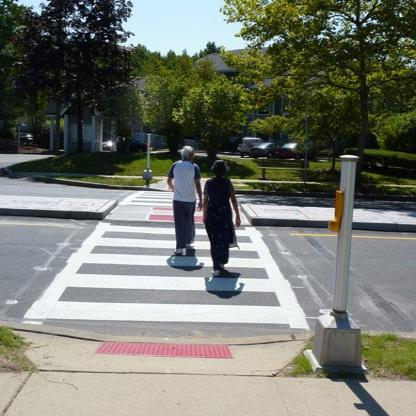Crosswalk: (31, 224, 309, 334)
